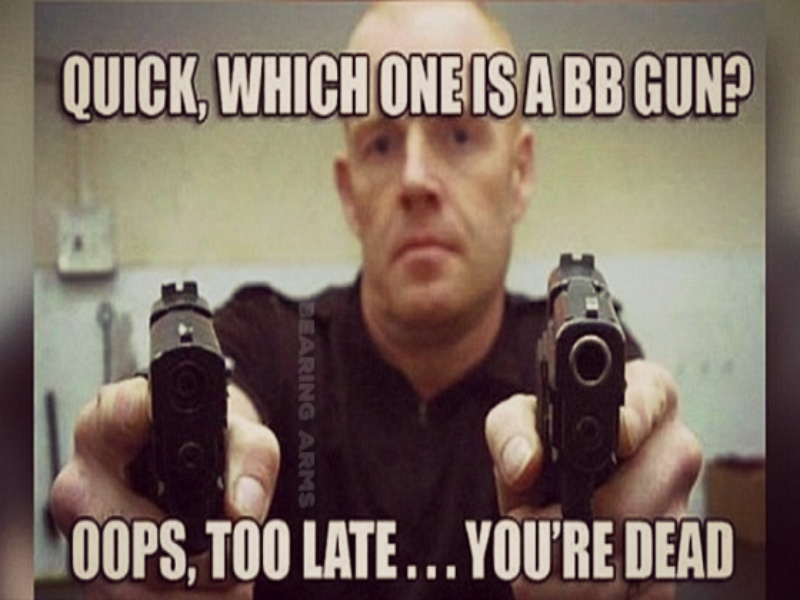gun: (525, 252, 648, 532), (129, 286, 255, 533)
